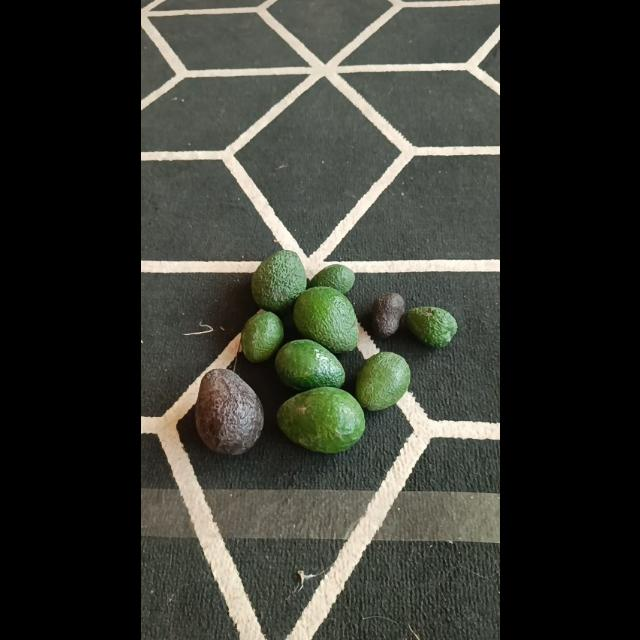Primera: (193, 367, 263, 453), (276, 386, 364, 452), (292, 285, 358, 351), (250, 249, 304, 311)
Segunda: (274, 339, 344, 391), (354, 352, 410, 411)
Tercera: (239, 311, 283, 364), (404, 306, 456, 346), (370, 292, 406, 338), (306, 263, 354, 295)
